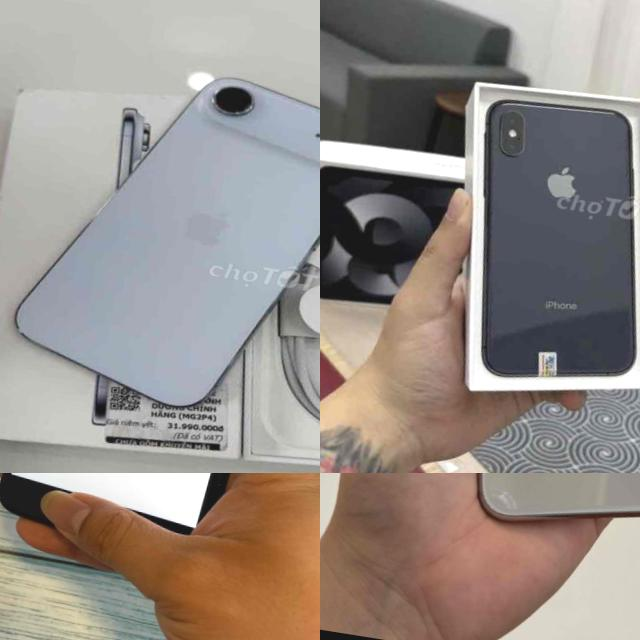physical_damage: (484, 482, 530, 520)
